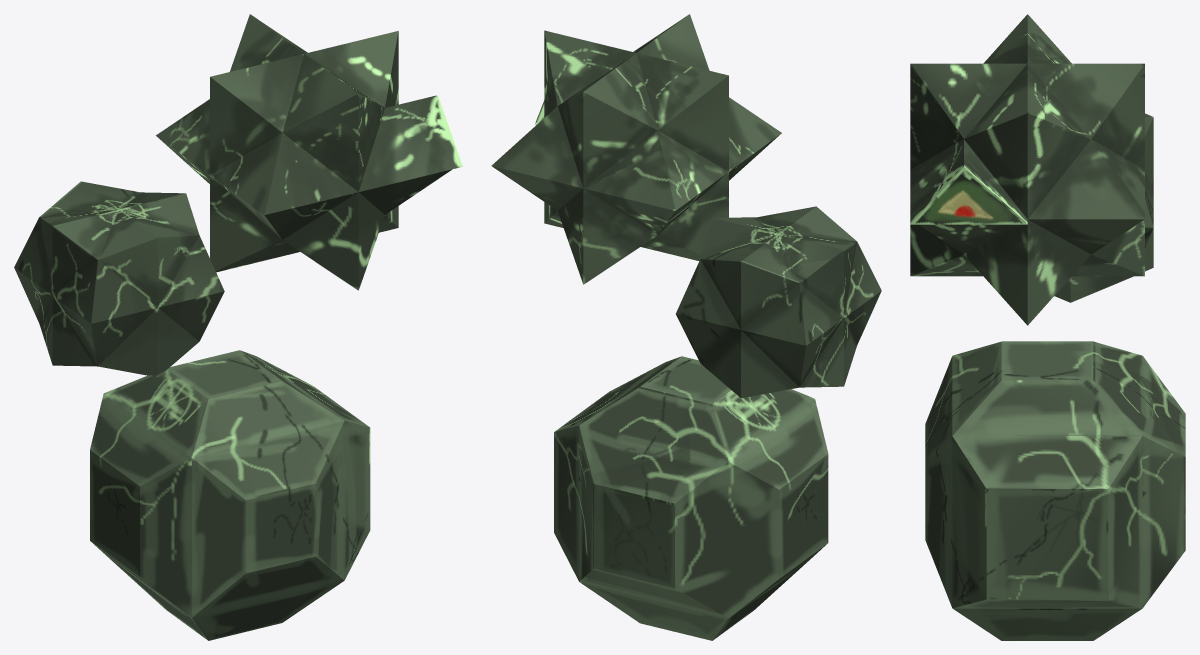
The model's file is golem_standing_2.obj.
The picture shows the model from 3 angles, left to right: view 1: azimuth 30°, elevation 25°; view 2: azimuth 150°, elevation 25°; view 3: azimuth 270°, elevation 25°; orthographic projection. The views are drawn at different scales.
Visible parts, largest first — view 1: Cube; view 2: Cube; view 3: Cube.
Boxes of the visible parts, bbox=[...] form: Cube: bbox=[14, 14, 462, 640]; Cube: bbox=[491, 14, 881, 640]; Cube: bbox=[910, 14, 1185, 640].
Size of the model in its own units: 4.4 by 6.9 by 2.89.
Materials: 1 (1 with a texture image).
